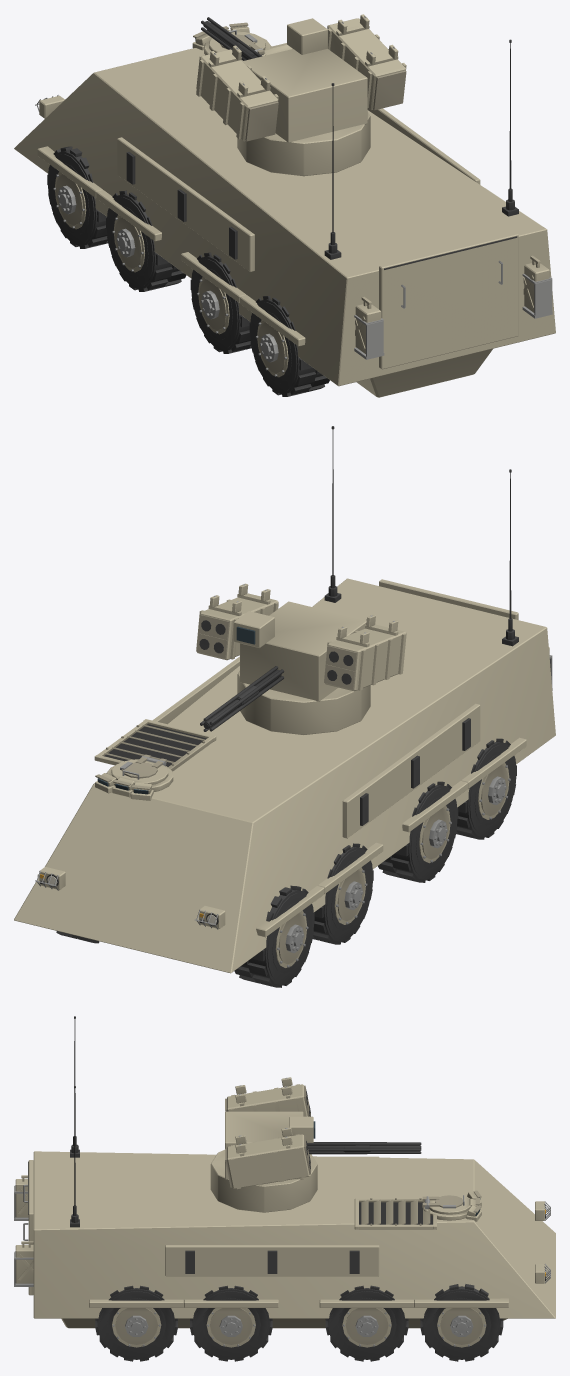
File: usa_cst_lavad.glb
3 views of the same model, one above another, from view 1: azimuth 30°, elevation 25°; view 2: azimuth 150°, elevation 25°; view 3: azimuth 270°, elevation 25° (orthographic). The views are drawn at different scales.
Visible parts, largest first — view 1: body, door, turret, barrel, wheel_2, wheel_6, wheel_0, wheel_4; view 2: body, turret, barrel, wheel_0, wheel_4, wheel_2, wheel_6, door; view 3: body, barrel, turret, wheel_1, wheel_3, wheel_5, wheel_7, door.
Part boxes in pixels (x1,y1,x2,y2): body: [14, 22, 555, 397]; door: [379, 232, 518, 369]; turret: [237, 18, 370, 176]; barrel: [196, 14, 406, 141]; wheel_2: [106, 190, 186, 291]; wheel_6: [249, 296, 329, 396]; wheel_0: [47, 146, 107, 248]; wheel_4: [190, 252, 251, 353]; body: [14, 426, 555, 973]; turret: [233, 601, 370, 734]; barrel: [196, 583, 406, 731]; wheel_0: [234, 885, 314, 987]; wheel_4: [378, 781, 458, 882]; wheel_2: [312, 843, 373, 944]; wheel_6: [456, 738, 516, 839]; door: [379, 579, 518, 619]; body: [14, 1016, 555, 1328]; barrel: [225, 1077, 421, 1189]; turret: [210, 1111, 317, 1212]; wheel_1: [420, 1284, 503, 1361]; wheel_3: [325, 1285, 408, 1361]; wheel_5: [190, 1285, 272, 1361]; wheel_7: [95, 1285, 177, 1361]; door: [23, 1160, 33, 1295].
Size of the model in its own units: 2.66 by 3.59 by 6.58.
